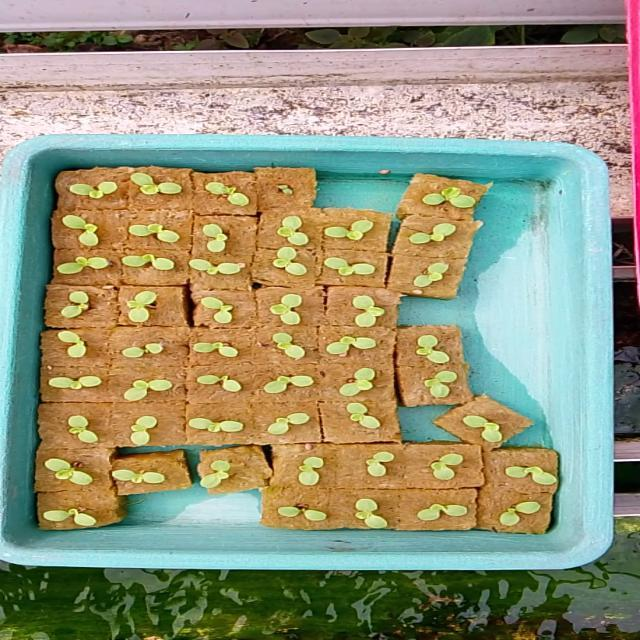Baby: (454, 406, 509, 447), (116, 457, 171, 495), (61, 415, 122, 448), (492, 499, 555, 530), (342, 369, 395, 397), (323, 254, 376, 282), (49, 459, 98, 487), (197, 296, 241, 327), (332, 335, 380, 363), (53, 287, 93, 319), (44, 507, 103, 528), (427, 371, 462, 405), (421, 500, 480, 520), (423, 191, 477, 212), (66, 217, 101, 248), (284, 503, 326, 528), (129, 291, 160, 324), (274, 249, 308, 278), (359, 498, 391, 528), (350, 403, 383, 432), (267, 376, 316, 394), (414, 265, 449, 290), (204, 459, 234, 488), (431, 453, 463, 480), (133, 416, 161, 445), (53, 376, 105, 391), (301, 457, 327, 486), (197, 342, 241, 359), (418, 335, 451, 357), (206, 225, 231, 254), (369, 452, 396, 477), (273, 414, 304, 435), (133, 226, 173, 240), (210, 418, 234, 441)
